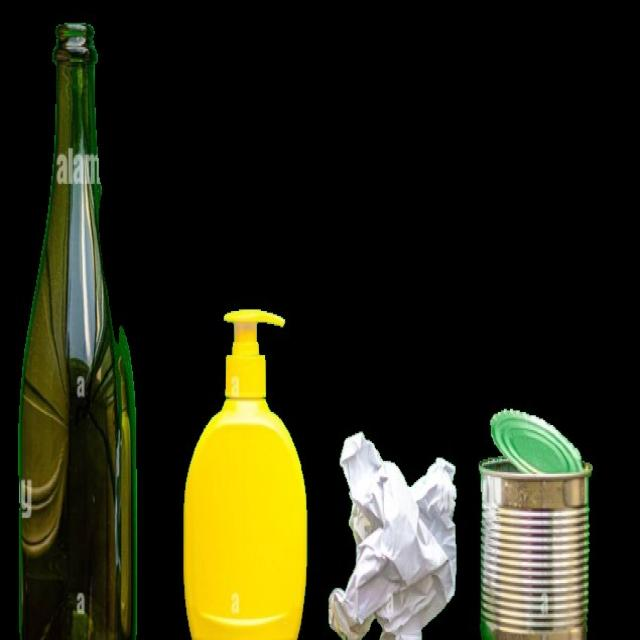metal: (476, 400, 623, 640)
paper: (333, 422, 462, 640)
plastic: (186, 299, 312, 640)
